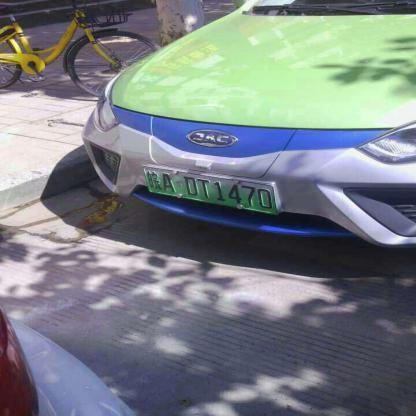lp: (140, 166, 276, 214)
